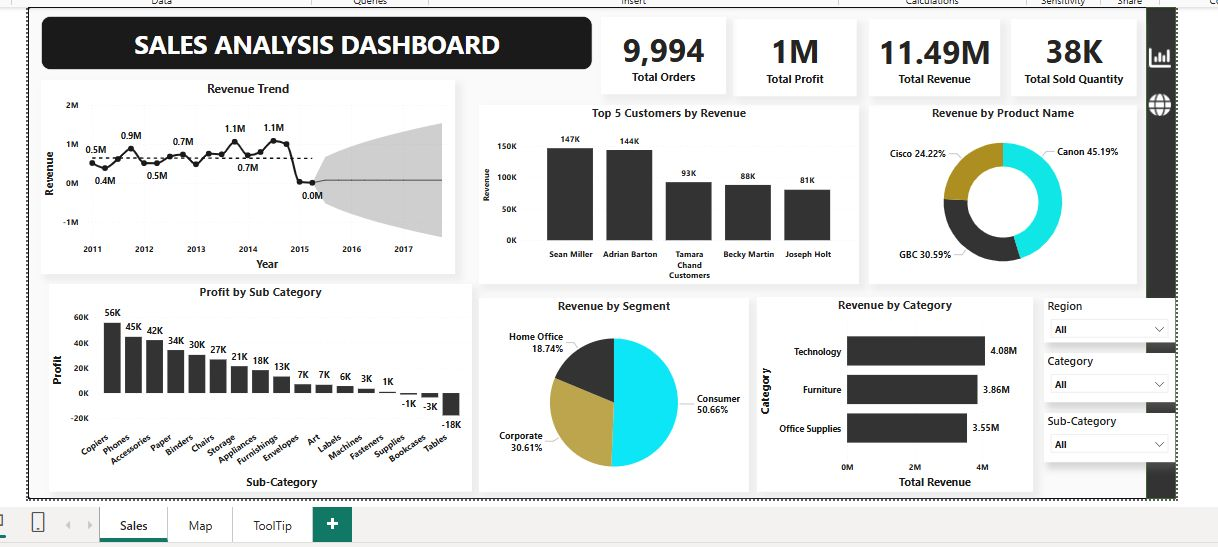

What the dashboard file says about the page in this screenshot:
{"tool":"powerbi","page":{"name":"Sales","canvas":[1680,720],"ordinal":0},"visuals":[{"type":"textbox","box":[18.7,12.5,807.3,79.5],"z":0},{"type":"card","fields":{"Values":["Measure Table (DAX).Total Profit"]},"box":[1031.2,17.7,181.5,112.7],"z":0,"group":"g1"},{"type":"card","fields":{"Values":["Measure Table (DAX).Total Orders"]},"box":[838.5,14.6,182.9,112.7],"z":1000,"group":"g1"},{"type":"lineChart","title":"Revenue Trend","fields":{"Category":["Calender.Ship Date.Variation.Date Hierarchy.Year","Calender.Ship Date.Variation.Date Hierarchy.Quarter","Calender.Ship Date.Variation.Date Hierarchy.Month","Calender.Ship Date.Variation.Date Hierarchy.Day"],"Y":["Measure Table (DAX).Total Revenue"]},"box":[19,106.8,605.9,283.9],"z":1000},{"type":"card","fields":{"Values":["Measure Table (DAX).Total Quantity"]},"box":[1438,17.7,184.4,112.7],"z":2000,"group":"g1"},{"type":"clusteredColumnChart","title":"Profit by Sub Category","fields":{"Category":["Sales Data.Sub-Category"],"Y":["Sum(Sales Data.Profit)"]},"box":[30.7,405.4,619,304.4],"z":2000},{"type":"shape","box":[1636.1,0,43.9,720],"z":3000},{"type":"card","fields":{"Values":["Measure Table (DAX).Total Revenue"]},"box":[1230.2,17.7,191.7,112.7],"z":3000,"group":"g1"},{"type":"pieChart","title":"Revenue by Segment","fields":{"Y":["Measure Table (DAX).Total Revenue"],"Category":["Sales Data.Segment"]},"box":[660,425.9,395.1,283.9],"z":4000},{"type":"clusteredColumnChart","title":"Top 5 Customers by Revenue","fields":{"Category":["Sales Data.Customer Name"],"Y":["Measure Table (DAX).Total Revenue"]},"box":[660,143.4,556.1,262],"z":5000},{"type":"donutChart","title":"Revenue by Product Name","fields":{"Y":["Measure Table (DAX).Total Revenue"],"Category":["Sales Data.Short Product Name"]},"box":[1230.7,143.4,392.2,262],"z":6000},{"type":"clusteredBarChart","title":" Revenue by Category","fields":{"Category":["Sales Data.Category"],"Y":["Measure Table (DAX).Total Revenue"]},"box":[1066.8,424.4,403.9,285.4],"z":7000},{"type":"group","id":"g1","title":"Cards","box":[838.5,14.6,784.4,115.6],"z":8000},{"type":"slicer","title":"Region","fields":{"Values":["Sales Data.Region"]},"box":[1486.8,425.5,191.7,65.5],"z":9000},{"type":"slicer","title":"Category","fields":{"Values":["Sales Data.Category"]},"box":[1486.8,506.5,191.7,71.7],"z":10000},{"type":"slicer","title":"Sub-Category","fields":{"Values":["Sales Data.Sub-Category"]},"box":[1486.8,593.8,191.7,71.7],"z":11000},{"type":"actionButton","box":[1636.4,54.5,43.6,40.5],"z":12000},{"type":"actionButton","box":[1636.4,123.1,43.6,40.5],"z":13000}]}

Visuals, with their boxes on the page's 1680x720 design canvas (x1, y1, x2, y2). These are canvas units, not pixel positions in the 1218x547 screenshot, which may show the page scaled, cropped or inside an application window:
textbox: x1=19, y1=12, x2=826, y2=92
card - Measure Table (DAX).Total Profit: x1=1031, y1=18, x2=1213, y2=130
card - Measure Table (DAX).Total Orders: x1=838, y1=15, x2=1021, y2=127
"Revenue Trend" lineChart: x1=19, y1=107, x2=625, y2=391
card - Measure Table (DAX).Total Quantity: x1=1438, y1=18, x2=1622, y2=130
"Profit by Sub Category" clusteredColumnChart: x1=31, y1=405, x2=650, y2=710
shape: x1=1636, y1=0, x2=1680, y2=720
card - Measure Table (DAX).Total Revenue: x1=1230, y1=18, x2=1422, y2=130
"Revenue by Segment" pieChart: x1=660, y1=426, x2=1055, y2=710
"Top 5 Customers by Revenue" clusteredColumnChart: x1=660, y1=143, x2=1216, y2=405
"Revenue by Product Name" donutChart: x1=1231, y1=143, x2=1623, y2=405
" Revenue by Category" clusteredBarChart: x1=1067, y1=424, x2=1471, y2=710
"Cards" group: x1=838, y1=15, x2=1623, y2=130
"Region" slicer: x1=1487, y1=426, x2=1678, y2=491
"Category" slicer: x1=1487, y1=506, x2=1678, y2=578
"Sub-Category" slicer: x1=1487, y1=594, x2=1678, y2=666
actionButton: x1=1636, y1=54, x2=1680, y2=95
actionButton: x1=1636, y1=123, x2=1680, y2=164
